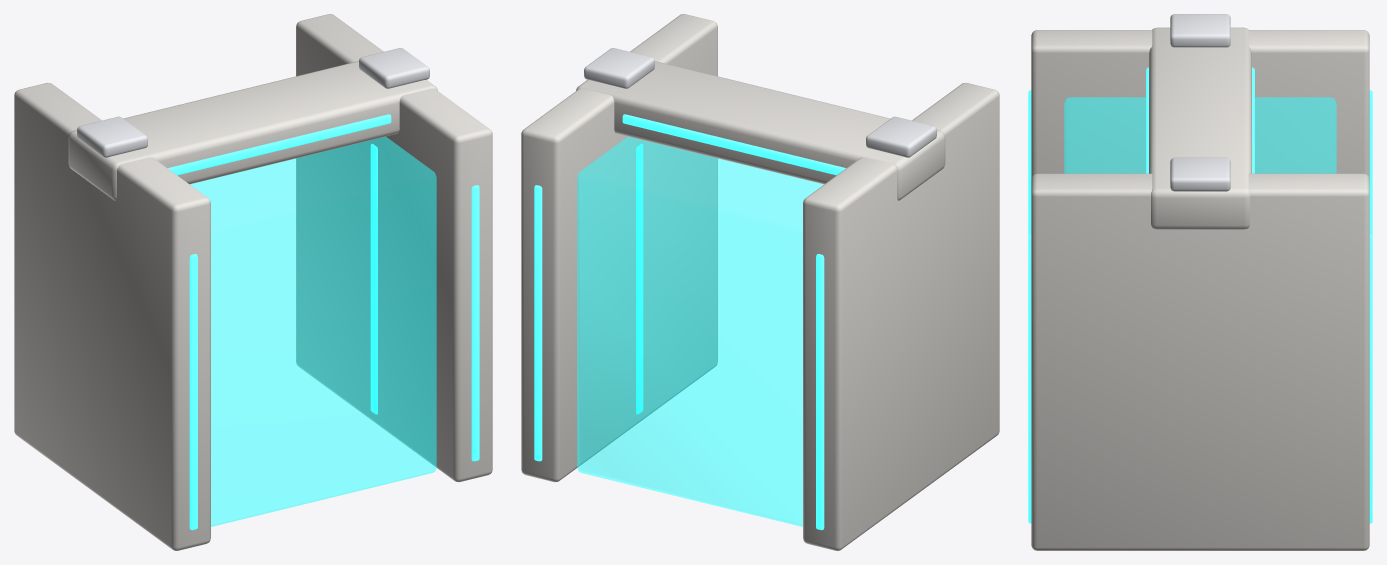
The model's file is gate.glb.
The picture shows the model from 3 angles, left to right: view 1: azimuth 30°, elevation 25°; view 2: azimuth 150°, elevation 25°; view 3: azimuth 270°, elevation 25°; orthographic projection. The views are drawn at different scales.
Parts seen in each view (by area): view 1: frame, barrier; view 2: frame, barrier; view 3: frame, barrier.
Part boxes in pixels (x1=…): frame: x1=14, y1=14, x2=492, y2=550; barrier: x1=190, y1=136, x2=436, y2=526; frame: x1=521, y1=14, x2=999, y2=550; barrier: x1=577, y1=136, x2=823, y2=526; frame: x1=1028, y1=14, x2=1372, y2=550; barrier: x1=1064, y1=97, x2=1336, y2=173.
Bounding box in the file's own units: 1.3 × 1.37 × 1.14.
